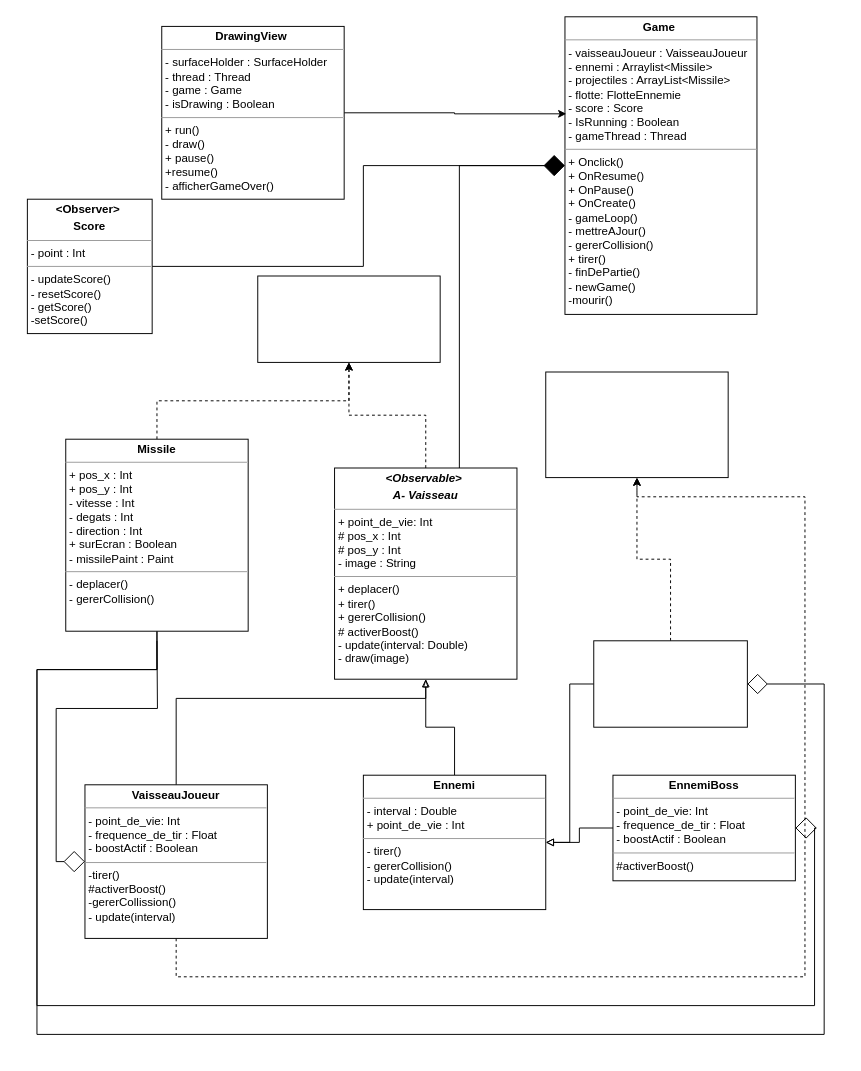
This 861x1071 diagram has some shape labels left out. The shapes that lost their labels are listed below. From the top down, each one's centre as x and y in pixels, then its label:
the point at 348,318: <<Interface>> Deplacable + deplacer()
the point at 636,424: <<Interface>> Tirable - tirer() + tuer()
the point at 670,683: EnnemiRouge + point_de_vie : Int - frequence_de_tir : Int - tirer()
